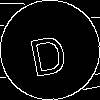D: (25, 25, 70, 78)
